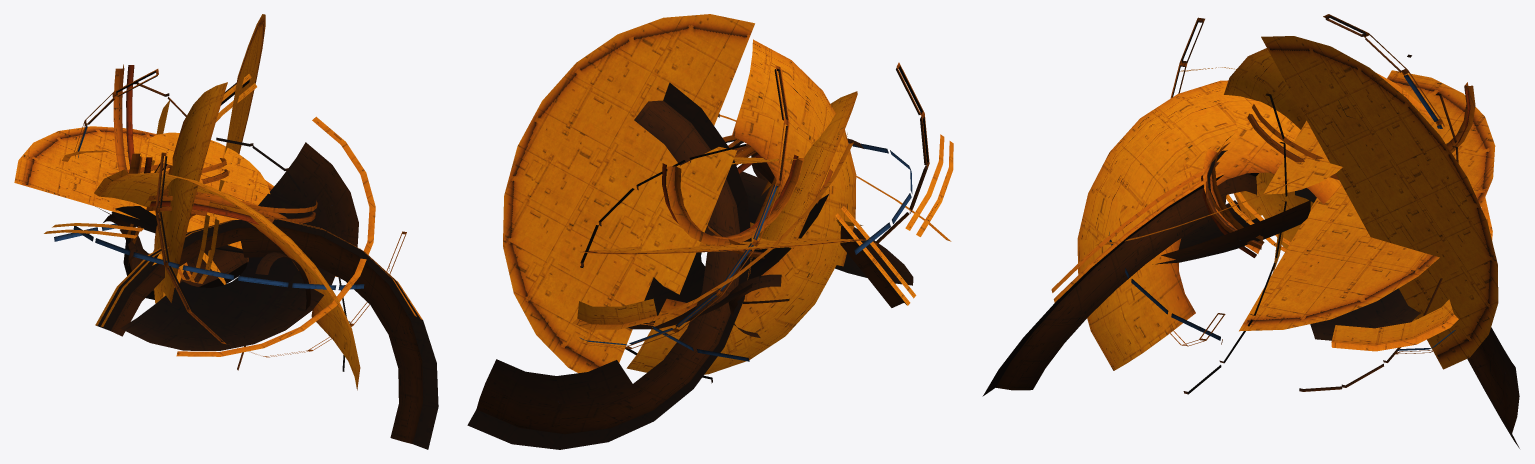
The model's file is MonsterB_Die5.obj.
3 views of the same model, side by side, from view 1: azimuth 30°, elevation 25°; view 2: azimuth 150°, elevation 25°; view 3: azimuth 270°, elevation 25° (orthographic). The views are drawn at different scales.
Visible parts, largest first — view 1: Sphere001; view 2: Sphere001; view 3: Sphere001.
Part boxes in pixels (<box>): Sphere001: <box>14,14,438,449</box>; Sphere001: <box>467,14,953,449</box>; Sphere001: <box>982,14,1519,448</box>.
Size of the model in its own units: 210 by 208 by 277.
Materials: 1 (1 with a texture image).
